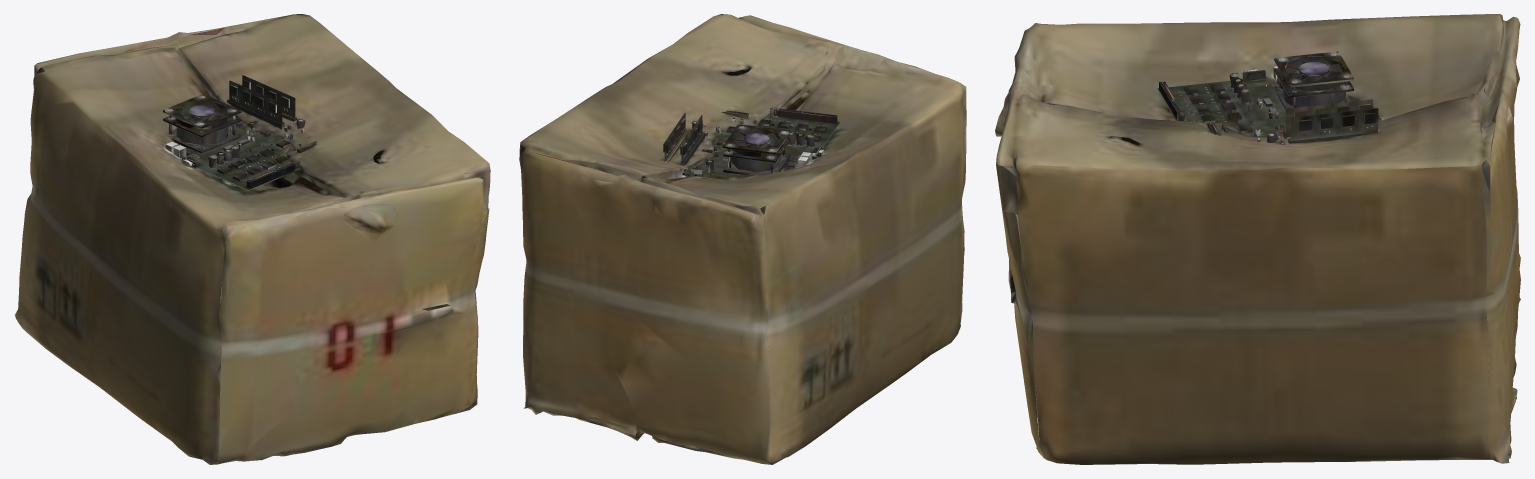
The model's file is electronics_box.glb.
3 renders of one model, left to right at view 1: azimuth 30°, elevation 25°; view 2: azimuth 150°, elevation 25°; view 3: azimuth 270°, elevation 25°, orthographic. The views are drawn at different scales.
Visible parts, largest first — view 1: electronics_box; view 2: electronics_box; view 3: electronics_box.
Part boxes in pixels (x1=…): electronics_box: x1=14, y1=14, x2=490, y2=464; electronics_box: x1=519, y1=14, x2=966, y2=464; electronics_box: x1=995, y1=14, x2=1520, y2=464.
Bounding box in the file's own units: 0.4 × 0.353 × 0.5328.
Materials: 1 (1 with a texture image).
